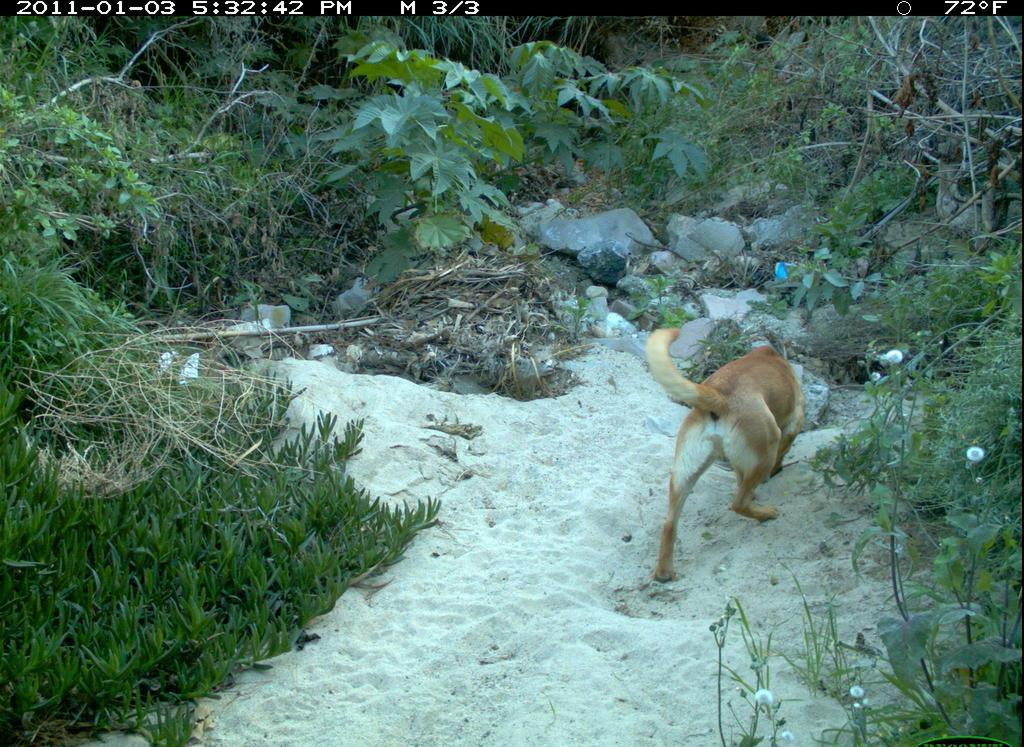dog: (642, 318, 811, 594)
